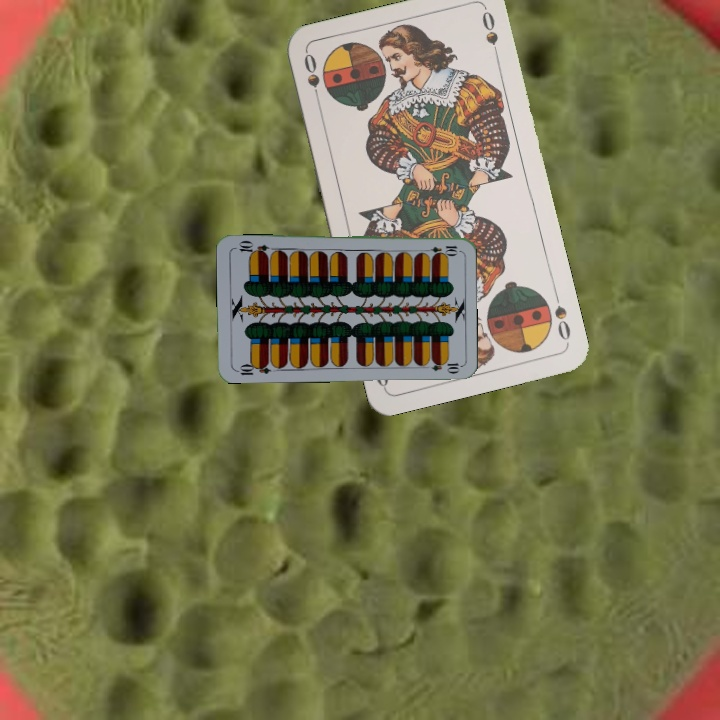E10: (232, 358, 273, 378), (419, 242, 460, 256)
SO: (300, 49, 323, 108), (550, 287, 573, 346)
